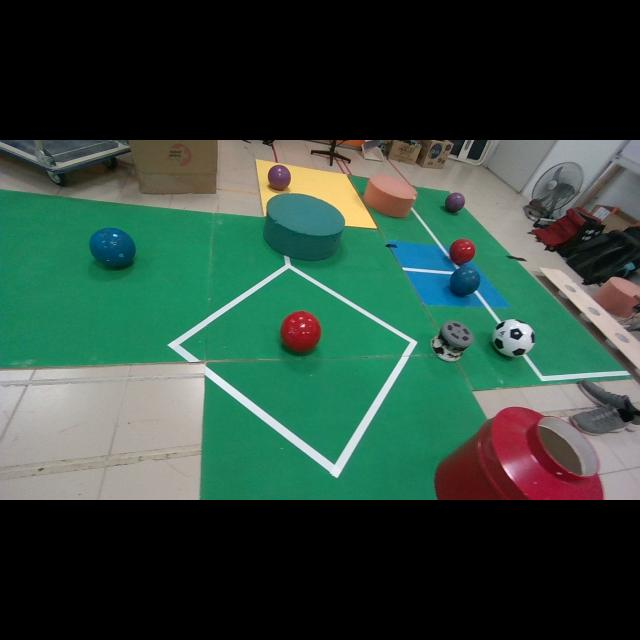B: (89, 228, 136, 267), (450, 265, 480, 297)
P: (268, 165, 291, 190), (445, 192, 465, 212)
R: (280, 311, 321, 352), (449, 239, 476, 265)
